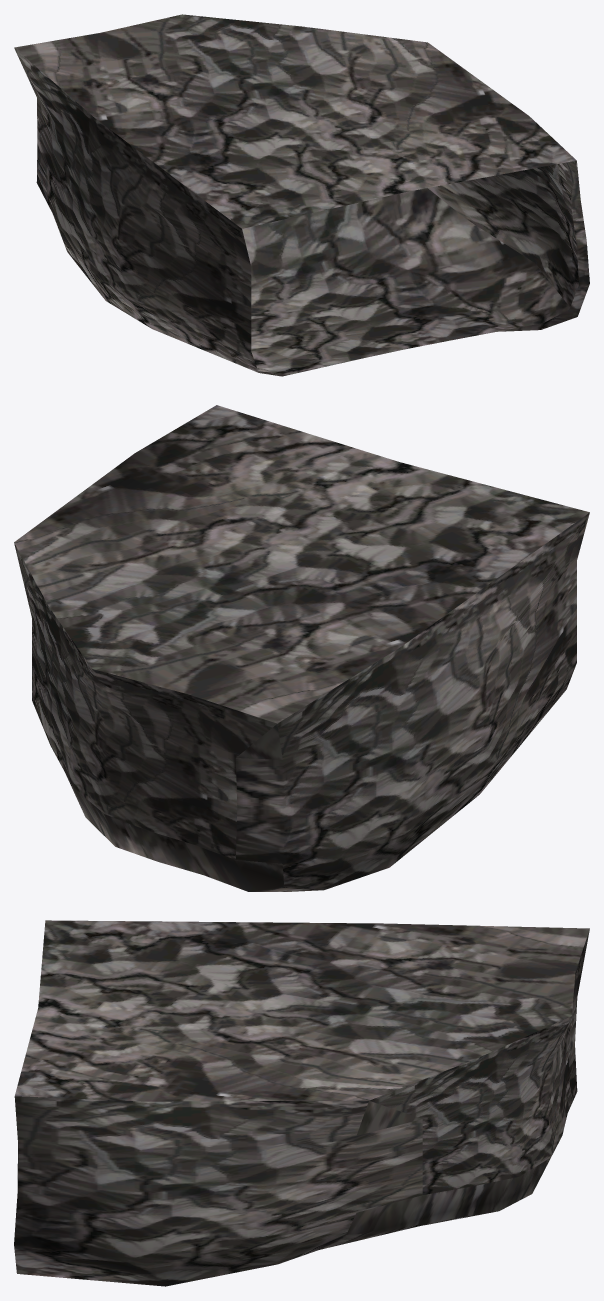
Rendered from INST_SM_LEDGEB.fbx.
3 renders of one model, top to bottom at view 1: azimuth 30°, elevation 25°; view 2: azimuth 150°, elevation 25°; view 3: azimuth 270°, elevation 25°, orthographic. The views are drawn at different scales.
Visible parts, largest first — view 1: INST_SM_LEDGEB; view 2: INST_SM_LEDGEB; view 3: INST_SM_LEDGEB.
Boxes of the visible parts, box(x1,y1,x2,y2) form: INST_SM_LEDGEB: box(14, 14, 589, 376); INST_SM_LEDGEB: box(14, 405, 589, 891); INST_SM_LEDGEB: box(14, 920, 589, 1286).
Bounding box in the file's own units: 30743 × 15246 × 36004.
1 material, 1 textured.
